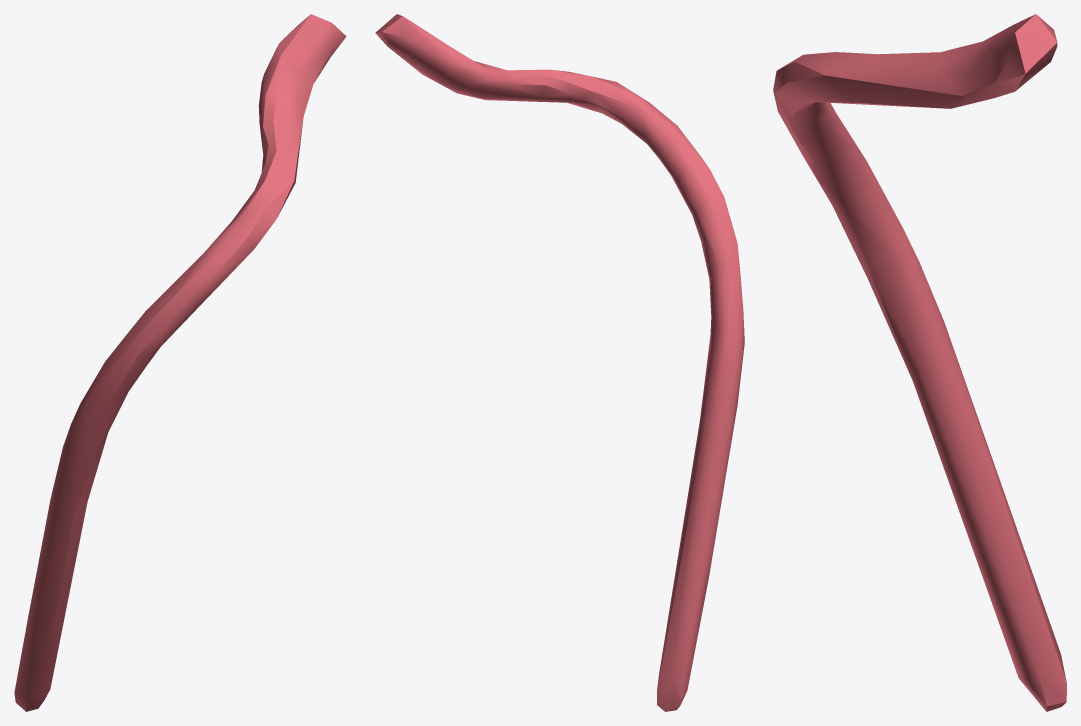
The model's file is fma50533_fj1657m.glb.
The picture shows the model from 3 angles, left to right: view 1: azimuth 30°, elevation 25°; view 2: azimuth 150°, elevation 25°; view 3: azimuth 270°, elevation 25°; orthographic projection. The views are drawn at different scales.
Visible parts, largest first — view 1: FMA50533_FJ1657M; view 2: FMA50533_FJ1657M; view 3: FMA50533_FJ1657M.
Part boxes in pixels (x1,y1,x2,y2): FMA50533_FJ1657M: (14, 14, 346, 711); FMA50533_FJ1657M: (375, 14, 744, 711); FMA50533_FJ1657M: (773, 14, 1066, 711).
Bounding box in the file's own units: 0.0149 × 0.0276 × 0.00835.
